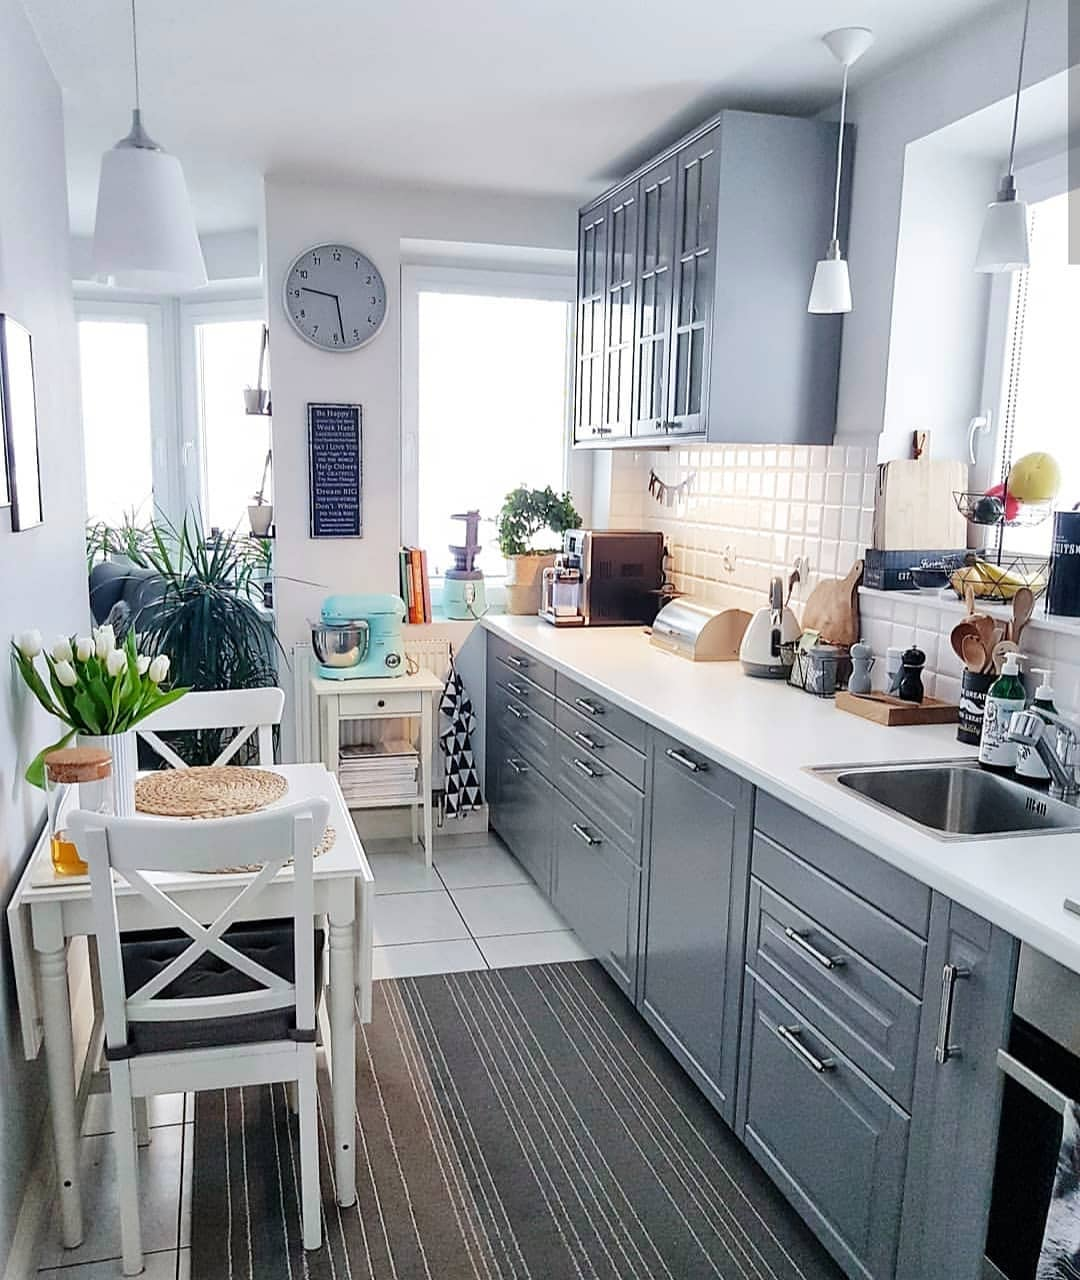jam dinding: (279, 234, 397, 362)
kursi: (46, 825, 360, 1268)
lampu: (79, 90, 223, 306), (961, 66, 1037, 282), (792, 111, 865, 318)
lukisan: (300, 395, 376, 552)
meja: (313, 666, 444, 850)
tanaman: (11, 624, 154, 815), (496, 487, 566, 609)
